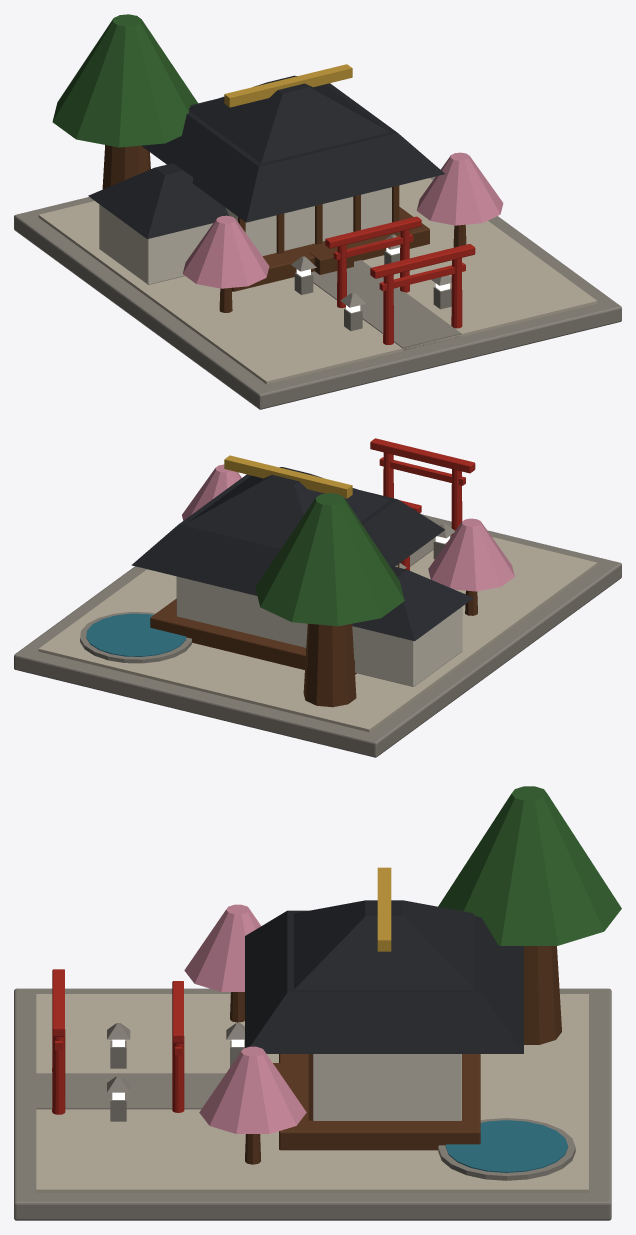
File: hakurei-shrine.glb
3 views of the same model, one above another, from view 1: azimuth 30°, elevation 25°; view 2: azimuth 150°, elevation 25°; view 3: azimuth 270°, elevation 25° (orthographic). The views are drawn at different scales.
Parts seen in each view (by area): view 1: hakurei-shrine_Opaque; view 2: hakurei-shrine_Opaque; view 3: hakurei-shrine_Opaque.
Part boxes in pixels (x1=…): hakurei-shrine_Opaque: x1=14, y1=14, x2=621, y2=409; hakurei-shrine_Opaque: x1=14, y1=438, x2=621, y2=757; hakurei-shrine_Opaque: x1=14, y1=786, x2=621, y2=1220.
Bounding box in the file's own units: 34 × 19.25 × 40.7.
